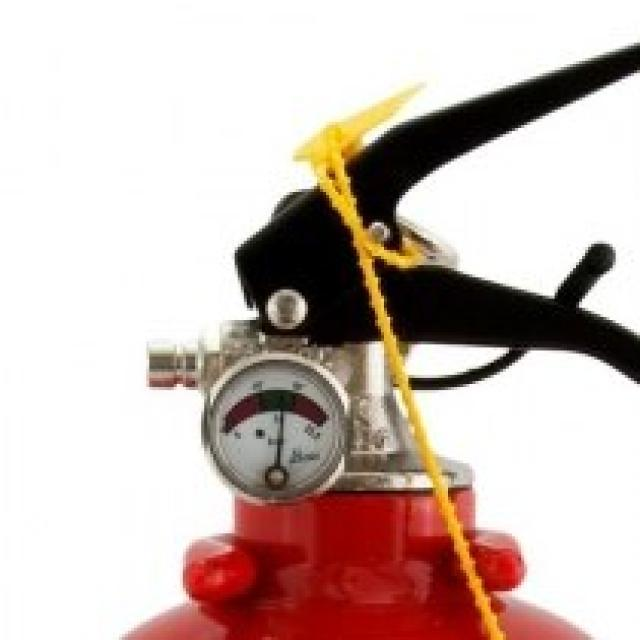pressure gauge: (204, 357, 343, 501)
